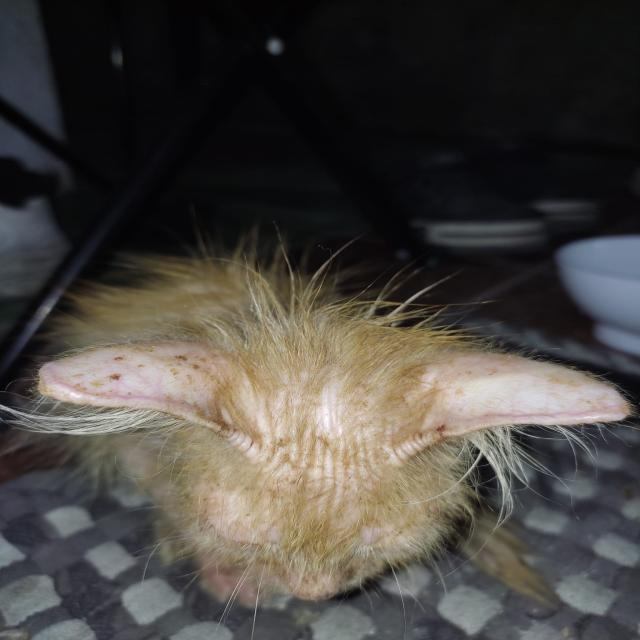Mange: (444, 370, 590, 414), (51, 353, 195, 395), (294, 391, 375, 421)
